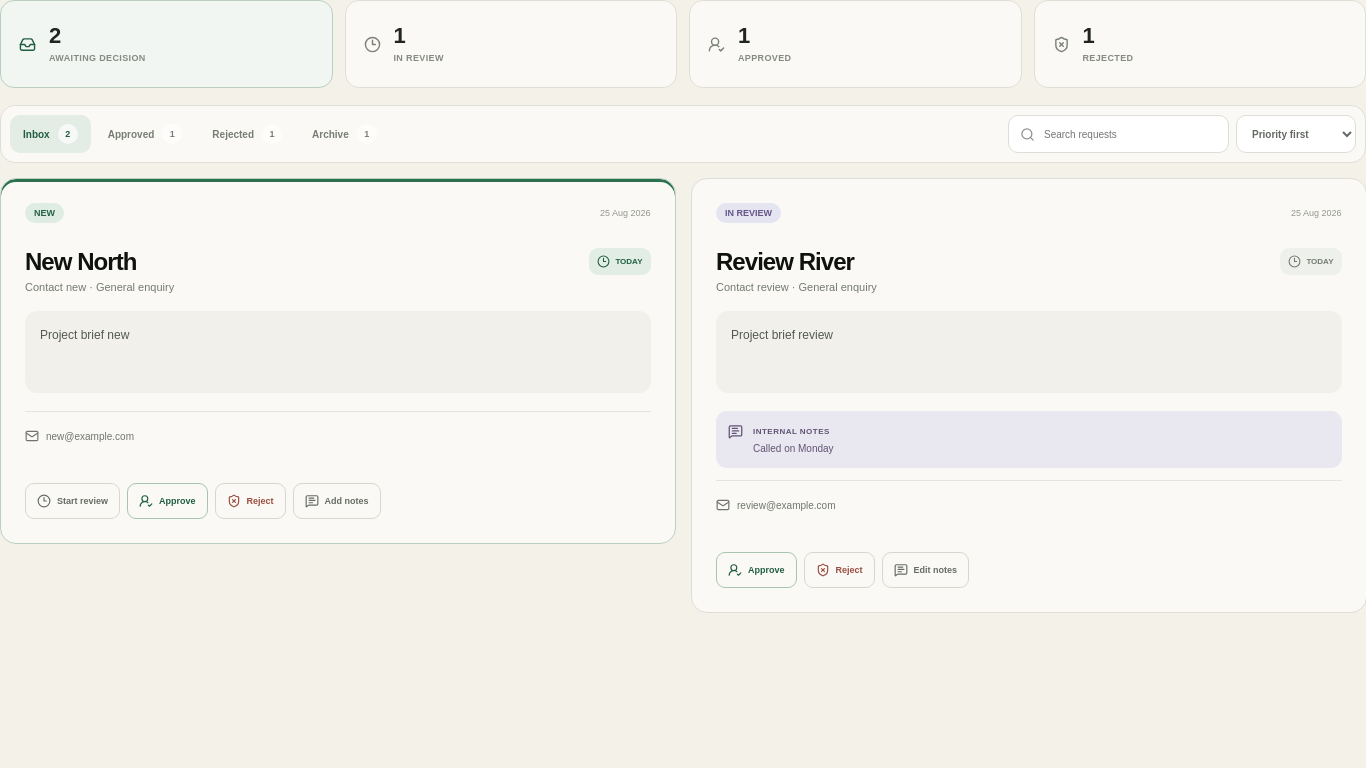
Test: ClientRequestManager › keeps rejected requests reviewable before they are archived
The width and height of the screenshot is (1366, 768).
Step 1. Click the tab "Rejected 1" → click(247, 134), box left=199, top=115, right=295, bottom=153
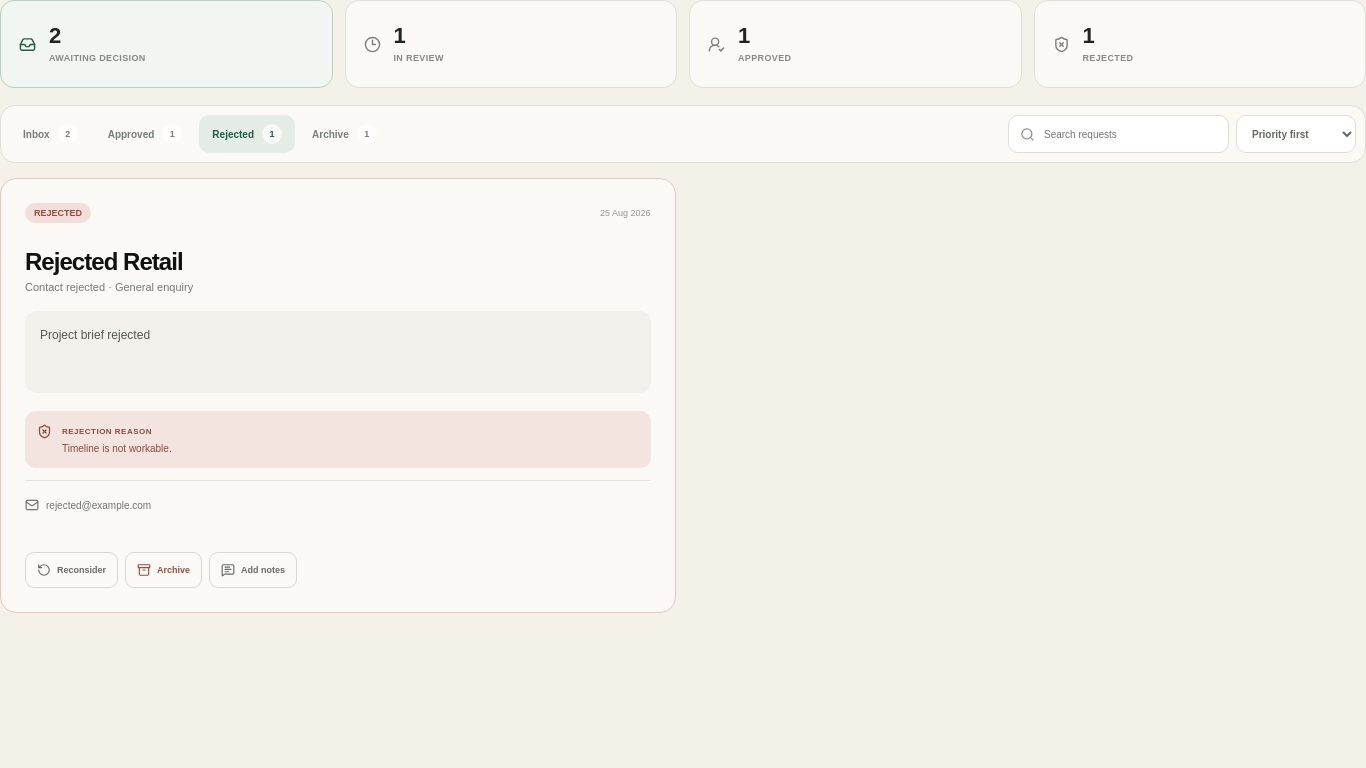
Check: the text "Rejected Retail" is shown, box left=25, top=248, right=193, bottom=276
Check: the text "Timeline is not workable." is shown, box left=62, top=441, right=172, bottom=456
Check: the text "Reconsider" is shown, box left=25, top=552, right=118, bottom=588
